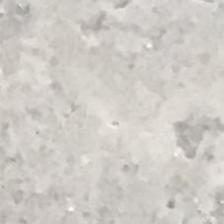Non_Crack: (29, 38, 195, 194)
